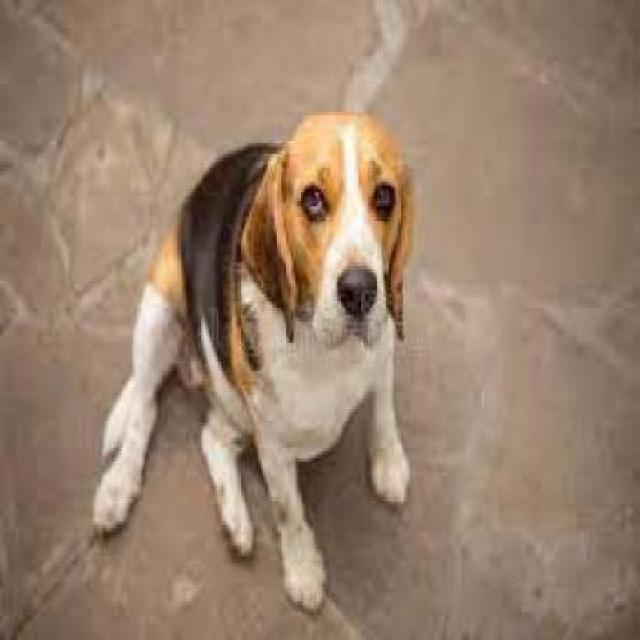Dog: (94, 100, 420, 623)
